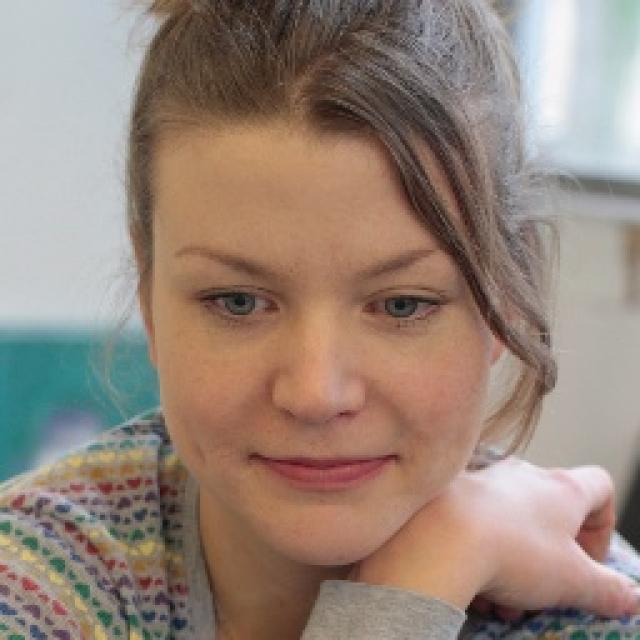earlobe: (490, 337, 509, 371), (148, 344, 161, 375)
eye: (196, 289, 280, 321), (369, 290, 444, 325)
nose: (275, 412, 362, 442)
wholeear: (124, 216, 160, 370)
